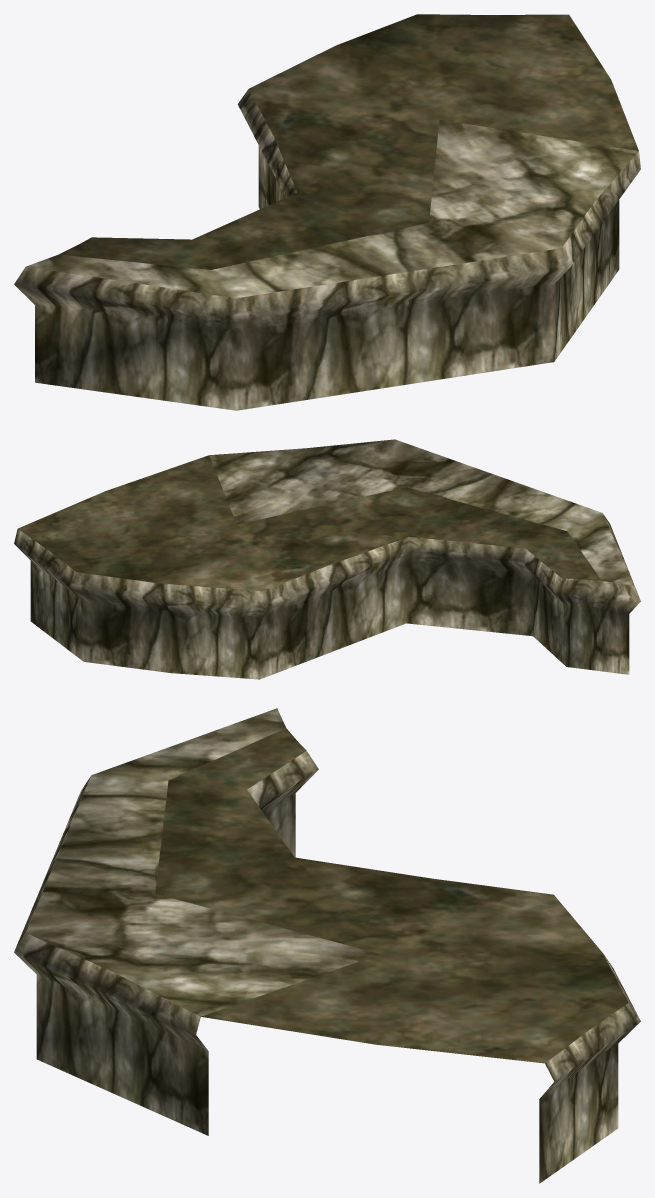
File: CB_NEWPLAYSURFACE_CB_PLAYSURFACE106.fbx
3 renders of one model, top to bottom at view 1: azimuth 30°, elevation 25°; view 2: azimuth 150°, elevation 25°; view 3: azimuth 270°, elevation 25°, orthographic. The views are drawn at different scales.
Parts seen in each view (by area): view 1: CB_NEWPLAYSURFACE_CB_PLAYSURFACE106; view 2: CB_NEWPLAYSURFACE_CB_PLAYSURFACE106; view 3: CB_NEWPLAYSURFACE_CB_PLAYSURFACE106.
Part boxes in pixels (<box>): CB_NEWPLAYSURFACE_CB_PLAYSURFACE106: <box>14,14,640,410</box>; CB_NEWPLAYSURFACE_CB_PLAYSURFACE106: <box>14,439,640,679</box>; CB_NEWPLAYSURFACE_CB_PLAYSURFACE106: <box>14,708,640,1183</box>.
Size of the model in its own units: 139482 by 23050 by 102439.
Materials: 3 (3 with a texture image).
